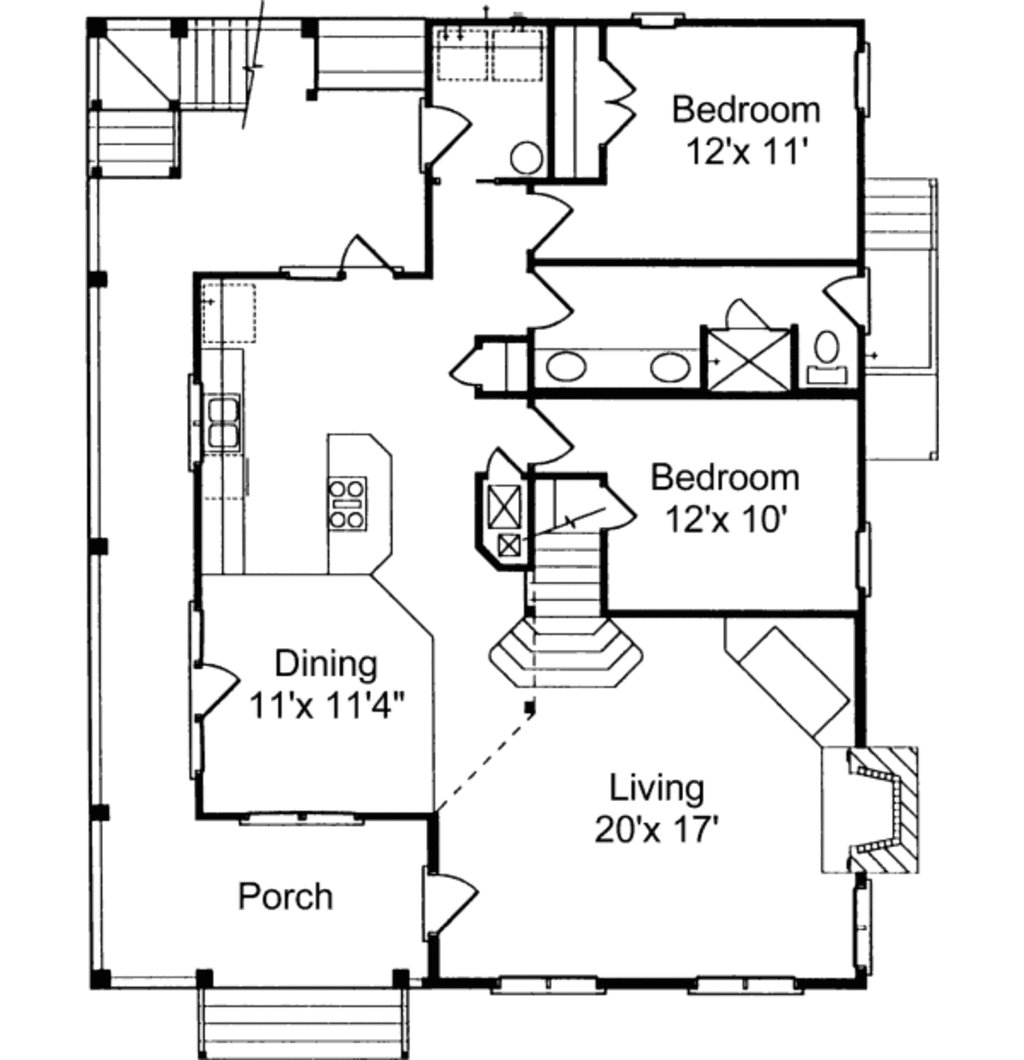coffee_table: (489, 484, 524, 536)
door: (415, 93, 477, 176), (425, 870, 478, 939), (599, 57, 640, 144), (525, 405, 577, 470), (527, 189, 576, 253), (526, 268, 573, 334), (195, 660, 241, 724), (335, 231, 394, 279), (447, 350, 479, 391)
kitchen_bar: (324, 431, 396, 577)
large_sink: (791, 324, 854, 391)
small_sink: (530, 349, 705, 393)
stairs: (95, 10, 271, 181), (524, 476, 642, 694), (861, 170, 936, 375), (198, 985, 399, 1060)
twin_sink: (203, 388, 244, 455)
windows: (234, 801, 357, 833), (488, 973, 623, 995), (691, 976, 798, 1000), (851, 45, 878, 116)
